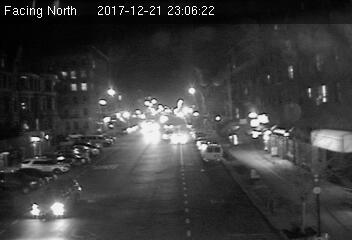car: (31, 179, 80, 218)
truck: (200, 142, 223, 164)
